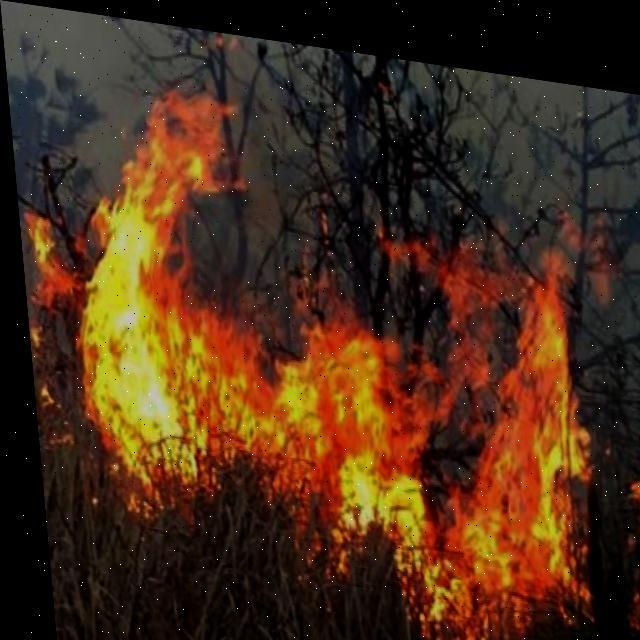Fire: (59, 87, 596, 636)
